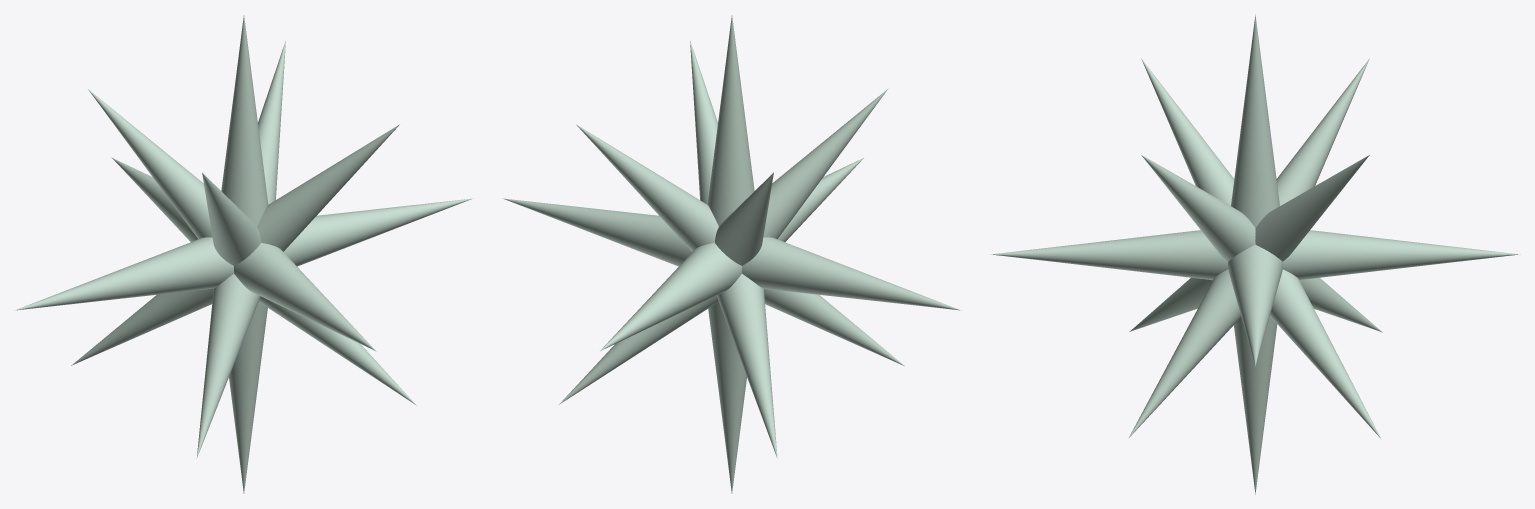
The model's file is star.glb.
The picture shows the model from 3 angles, left to right: view 1: azimuth 30°, elevation 25°; view 2: azimuth 150°, elevation 25°; view 3: azimuth 270°, elevation 25°; orthographic projection.
Size of the model in its own units: 0.2615 by 0.2615 by 0.2615.
